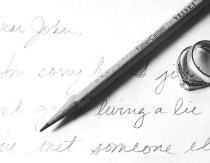pen_tip: (33, 94, 90, 143)
